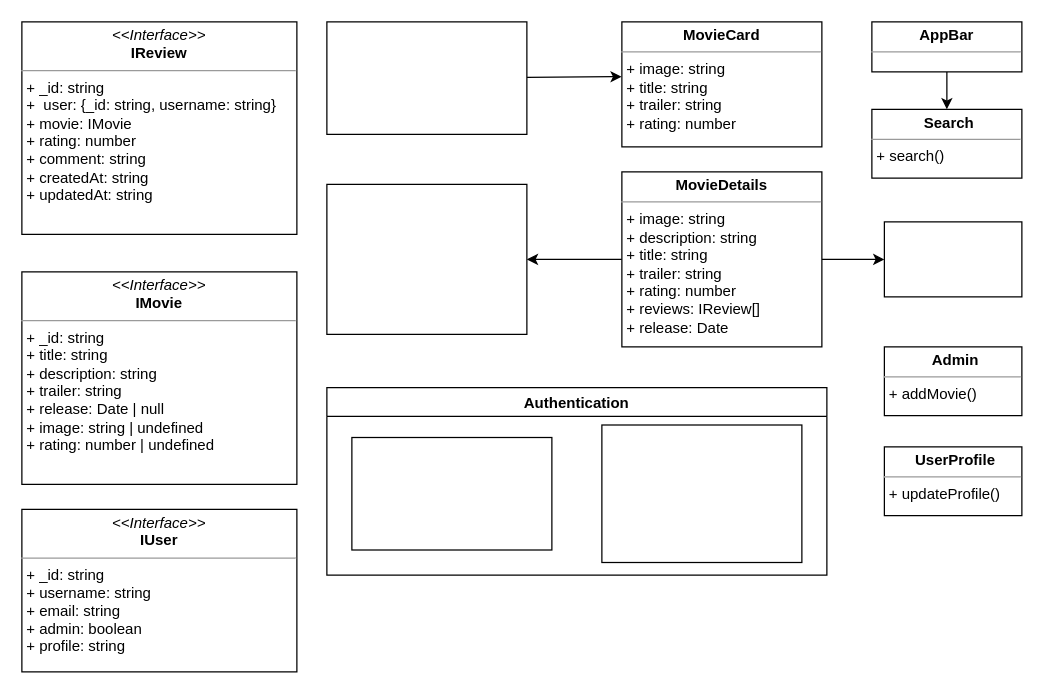
This 1044x694 diagram has some shape labels left out. Each missing label, with the centre of its shape:
"AddReview + addReview()" goes at point (952, 259).
"Login + identifier: string + password: string + login()" goes at point (451, 493).
"Overview + MovieCards: IMovie[] + fetchMovies()" goes at point (426, 77).
"Register + username: string + email: string + password: string + register()" goes at point (701, 493).
"Review + comment: string + rating: number + delete() + like() + dislike()" goes at point (426, 258).
